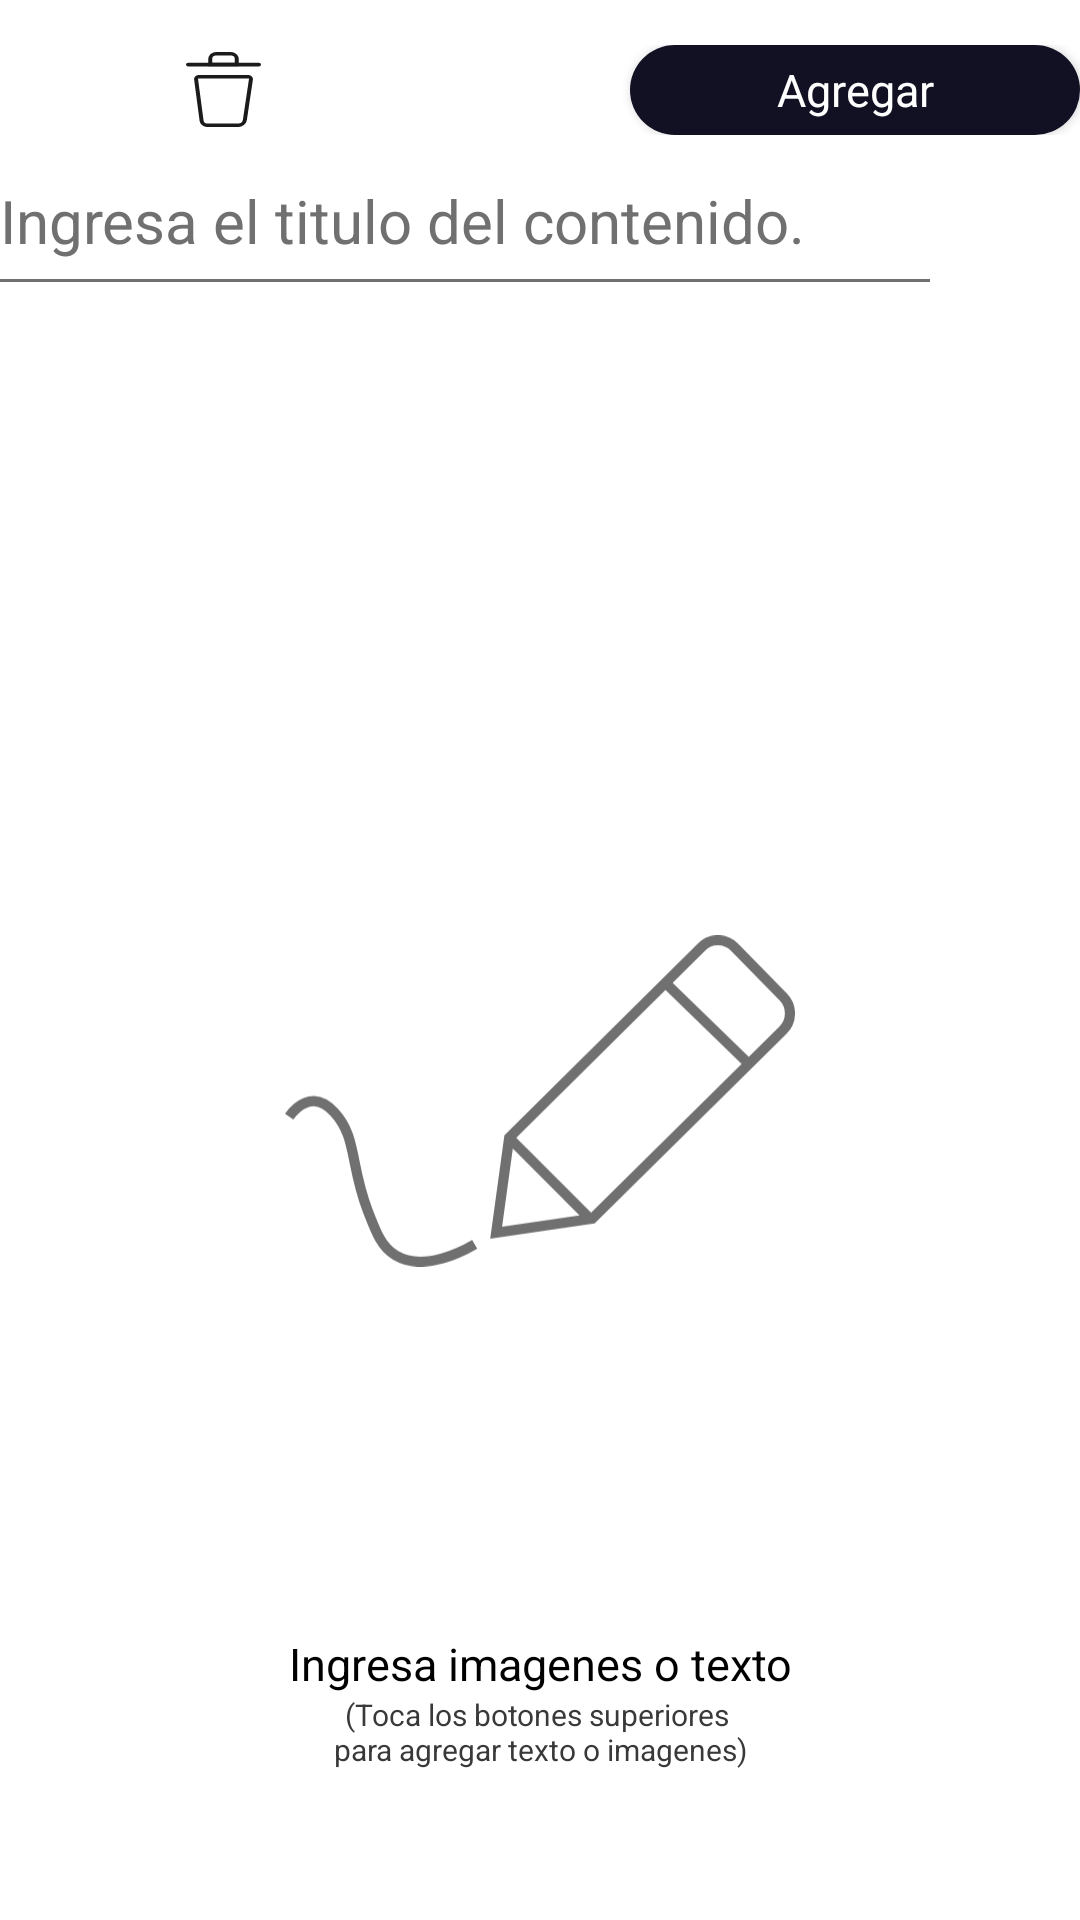

Point at icon controls on the screen. Image size 1080×1920, points as [x,y].
delete: [223,89]
